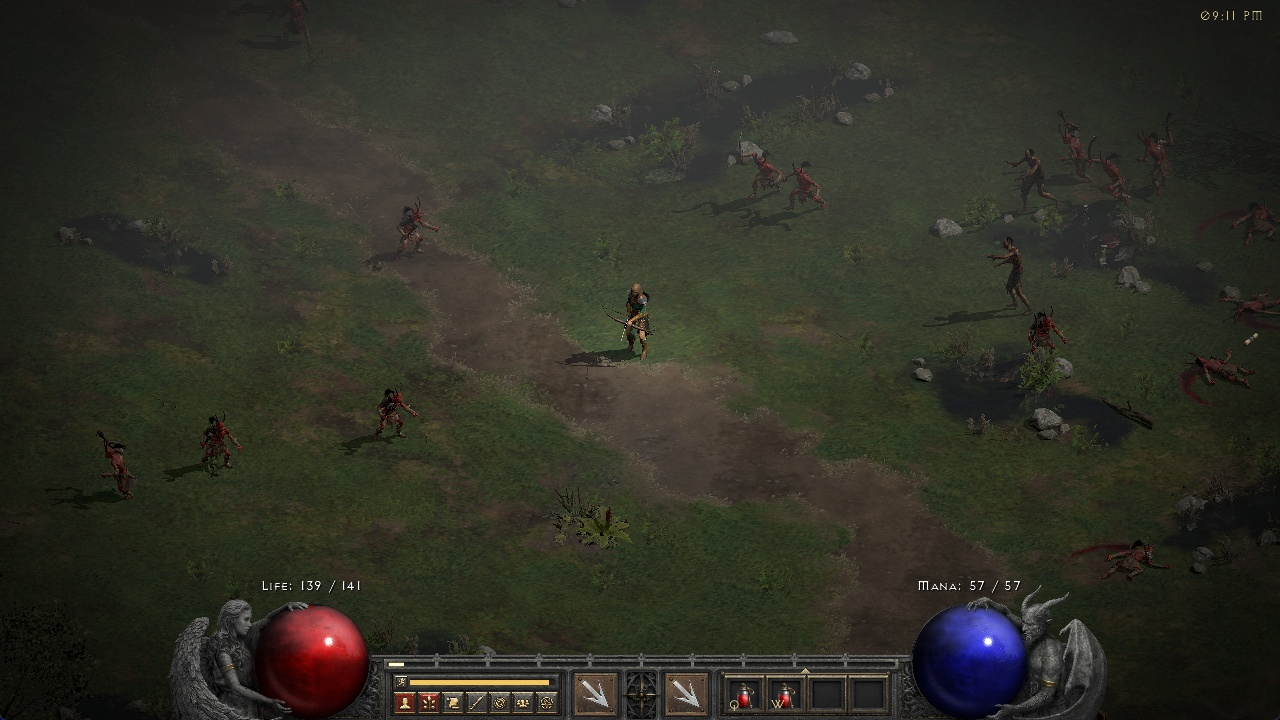fallen: (191, 415, 248, 473), (735, 135, 782, 198), (393, 195, 442, 255), (1136, 111, 1179, 179), (370, 383, 416, 437), (1052, 112, 1095, 168), (101, 428, 134, 499), (1023, 306, 1069, 355), (783, 162, 826, 211), (284, 1, 322, 53), (1092, 153, 1129, 200)
